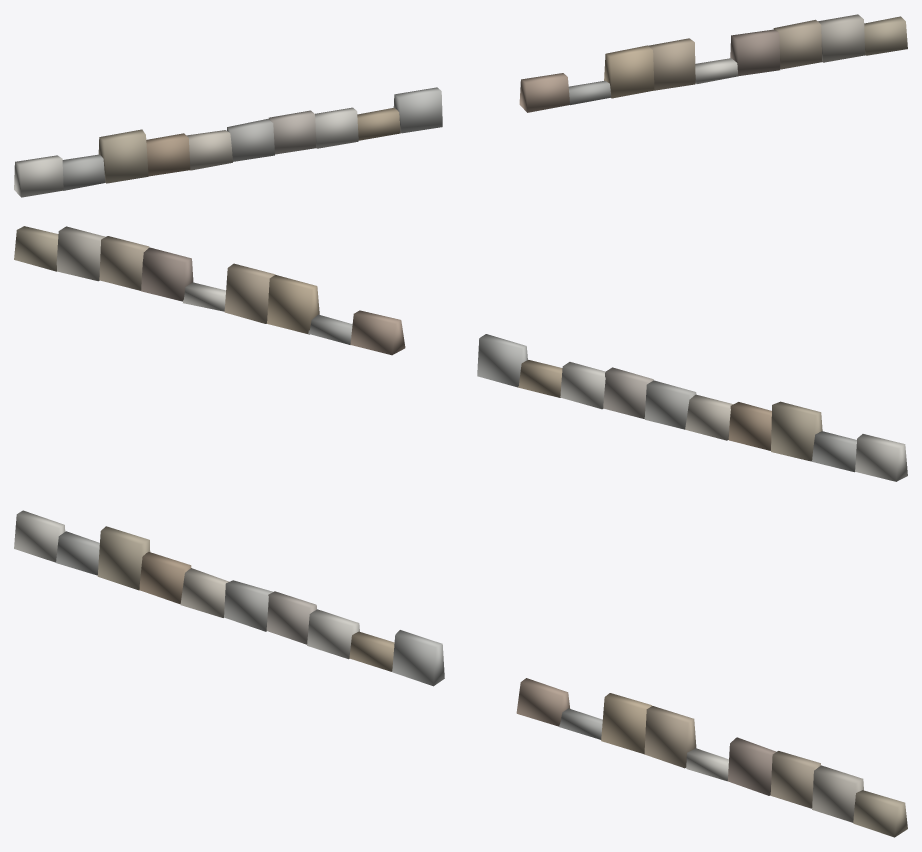
The model's file is farm_35_24_far.glb.
3 renders of one model, top to bottom at view 1: azimuth 30°, elevation 25°; view 2: azimuth 150°, elevation 25°; view 3: azimuth 330°, elevation 25°, orthographic. The views are drawn at different scales.
Parts seen in each view (by area): view 1: geometry_0; view 2: geometry_0; view 3: geometry_0.
Part boxes in pixels (x1,y1,x2,y2): geometry_0: (14,14,907,197); geometry_0: (14,226,907,481); geometry_0: (14,510,907,837).
Bounding box in the file's own units: 32.1 × 2.46 × 3.14.
